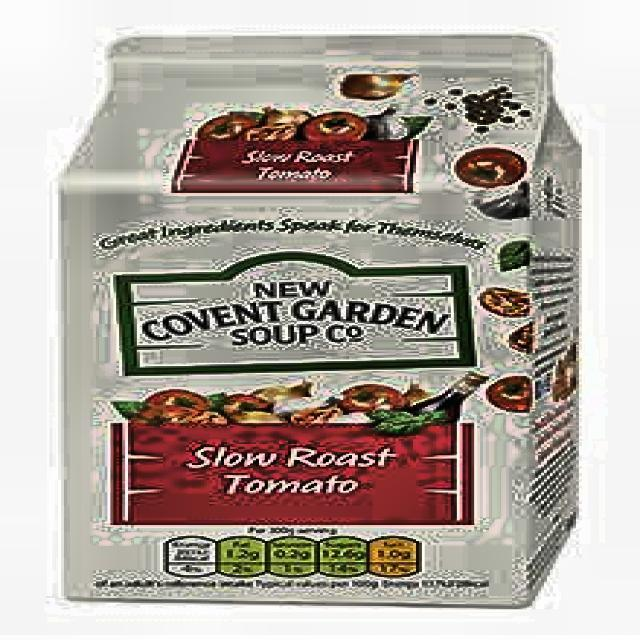cardboard: (55, 32, 582, 608)
